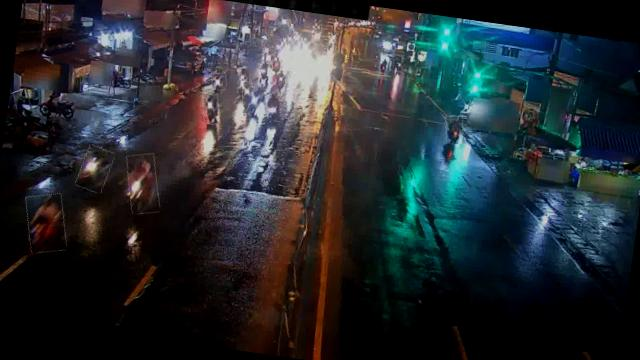Bike: (21, 191, 70, 255), (122, 151, 164, 216), (77, 144, 114, 193), (442, 114, 464, 146), (200, 93, 222, 125), (264, 92, 283, 122), (248, 84, 264, 116), (210, 72, 228, 90), (240, 80, 253, 103)
